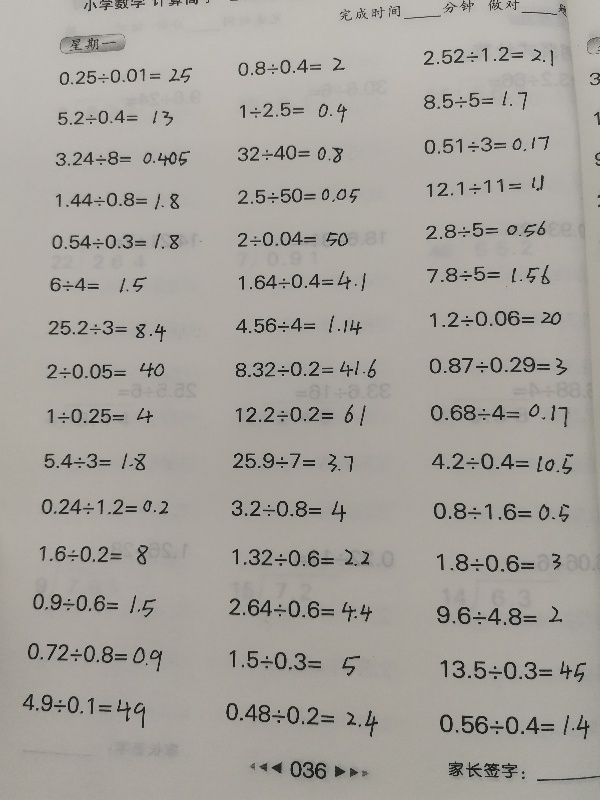equation: (221, 701, 382, 735), (435, 711, 593, 742), (225, 647, 368, 680), (232, 93, 359, 128), (23, 638, 165, 669), (428, 449, 576, 478), (19, 690, 149, 723), (426, 398, 571, 427), (225, 596, 375, 624), (437, 656, 589, 683), (231, 399, 369, 427), (232, 356, 380, 382), (28, 588, 159, 617), (234, 266, 369, 294), (425, 352, 570, 378), (420, 42, 557, 69), (49, 104, 185, 131), (433, 550, 574, 576), (424, 261, 554, 289), (228, 545, 372, 570), (429, 499, 572, 524), (432, 602, 565, 628), (232, 311, 365, 337), (227, 494, 349, 522), (55, 64, 195, 88), (426, 306, 564, 330), (229, 449, 356, 475), (52, 147, 193, 170), (45, 316, 169, 342), (48, 229, 182, 253), (420, 132, 552, 156), (51, 188, 182, 212), (44, 272, 169, 297), (36, 542, 161, 567), (38, 495, 172, 518), (422, 218, 548, 242), (234, 184, 363, 207), (420, 88, 532, 114), (44, 360, 169, 383), (423, 175, 548, 198), (40, 447, 149, 473), (233, 141, 346, 166), (234, 228, 352, 251), (234, 54, 348, 77), (44, 405, 157, 427)
